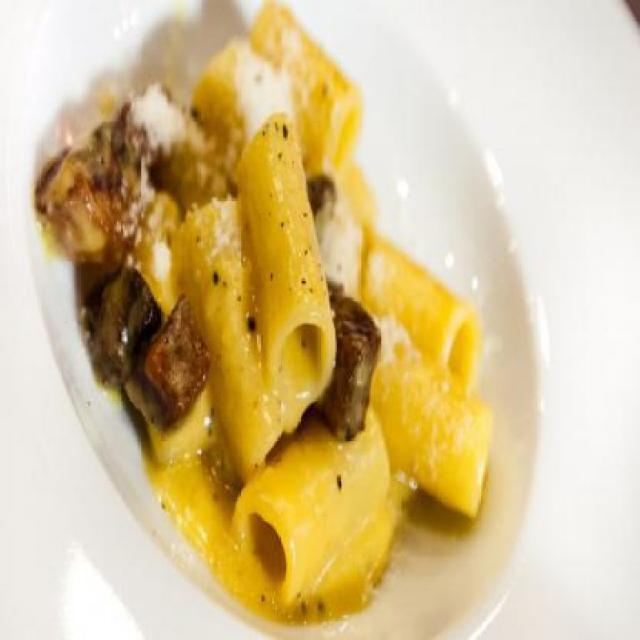Pasta with carbonara sauce: (54, 14, 543, 617)
